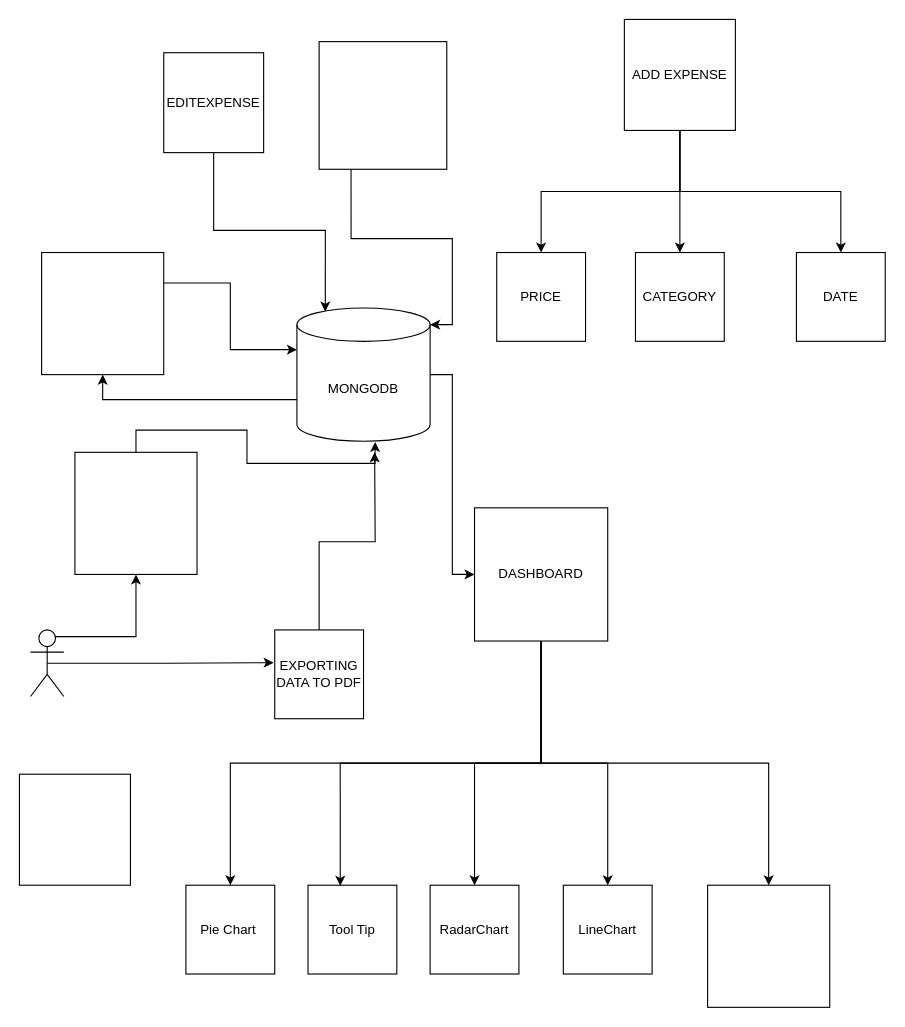
Some shapes in this 905 by 1027 pixel diagram are drawn without their labels. The shapes that lost their labels are listed below. From the top down, each one's centre as x and y in pixels, then its label:
At (x=382, y=105): "DELETE EXPENSE".
At (x=102, y=313): "LOGIN/SIGNUP USING JWT".
At (x=135, y=512): "CHATBOT PROCESSING NLP QUERIES (GEMINIAPI)".
At (x=46, y=663): "Actor".
At (x=74, y=829): "SETTING BUDJET AND NOTIFYING TO USER".
At (x=768, y=945): "EXPENSE SUMMARY (WEEK/MONTH DAY)".
